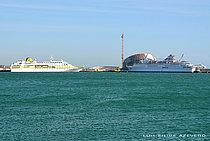Ship: (119, 51, 203, 77), (3, 55, 85, 76)
